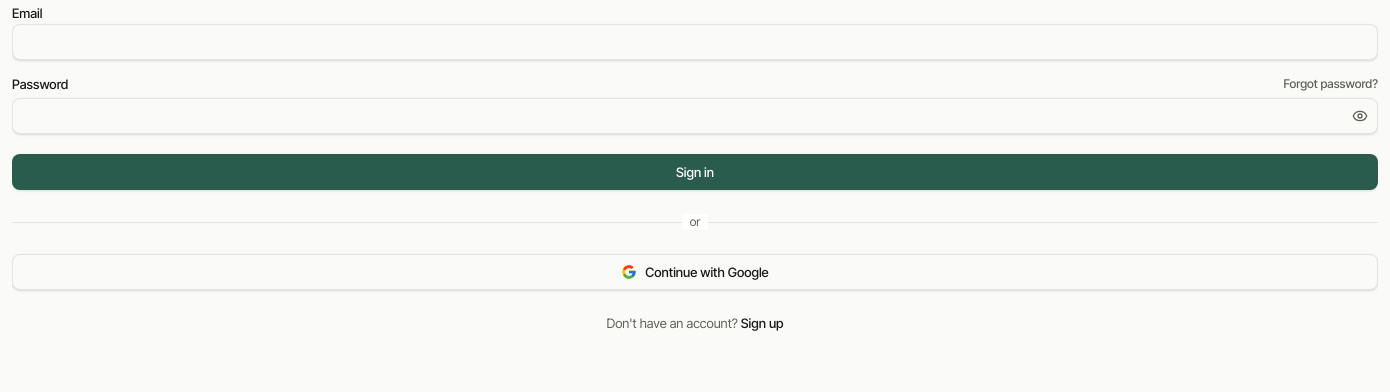
SignInForm › shows validation error for empty email
Click the button "Sign in" at x=695, y=172, box [12,154,1378,190]
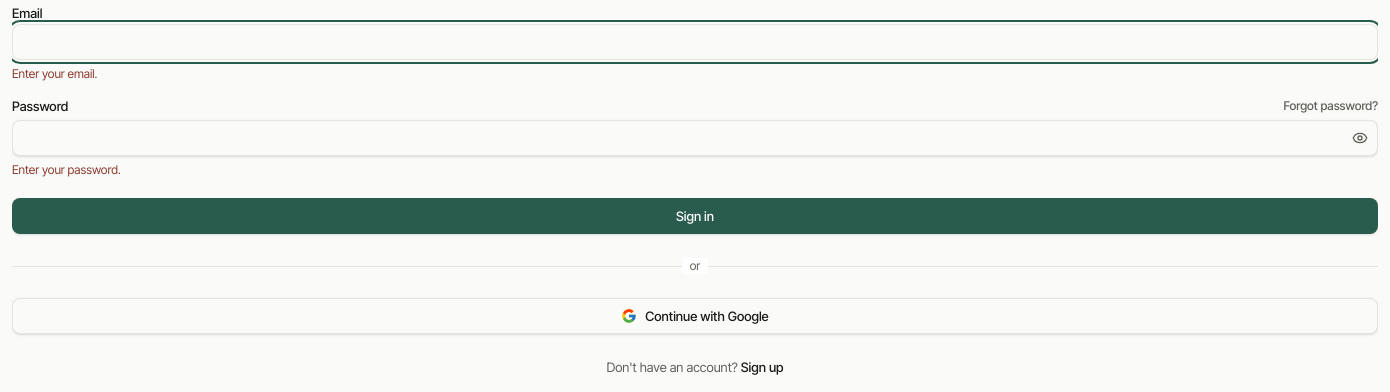
Result: the text "Enter your email." is shown at [12,66,97,81]
